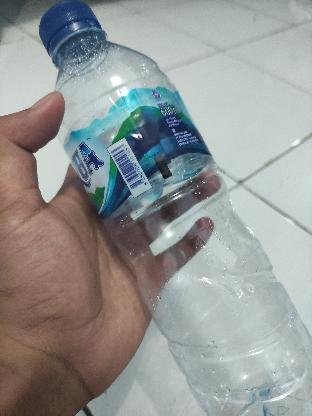Plastic Bottle: (36, 0, 312, 416)
